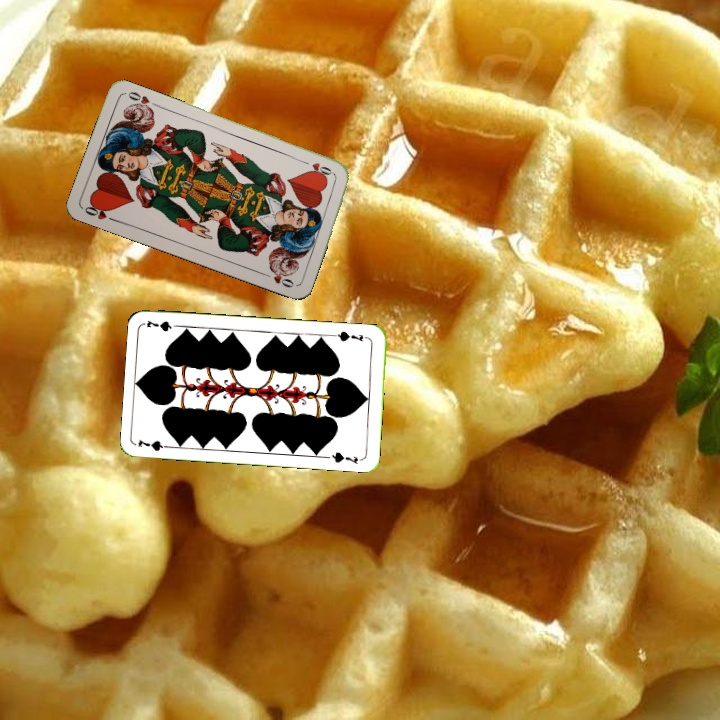G7: (135, 436, 175, 453), (331, 327, 365, 344)
HO: (80, 199, 119, 224), (298, 156, 337, 178)
